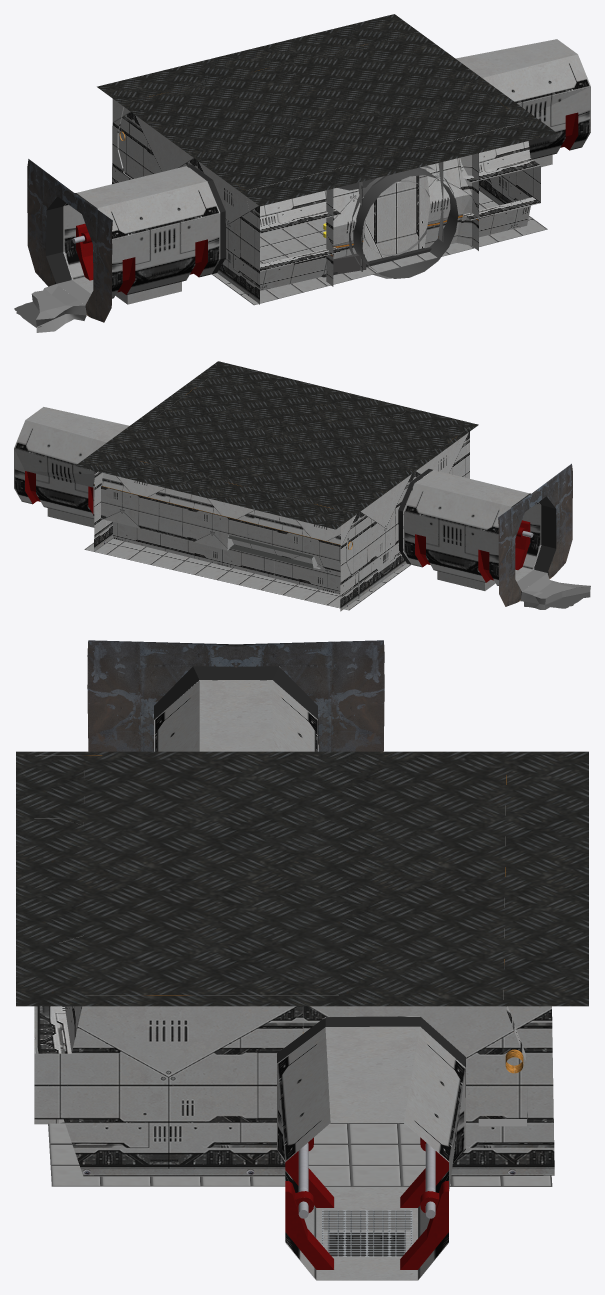
File: Corridor and Airlock Storage.fbx
3 renders of one model, top to bottom at view 1: azimuth 30°, elevation 25°; view 2: azimuth 150°, elevation 25°; view 3: azimuth 270°, elevation 25°, orthographic. The views are drawn at different scales.
Parts seen in each view (by area): view 1: Chamber_Chamber, Corridor8:corridor, polySurface17, Corridor9:corridor, Floor, Airlock; view 2: Chamber_Chamber, Corridor8:corridor, Corridor9:corridor, polySurface17, Floor; view 3: Chamber_Chamber, Corridor9:corridor, polySurface17, Floor, Corridor8:corridor, Corridor9:grate.
Part boxes in pixels (x1,y1,x2,y2): Chamber_Chamber: (97, 14, 557, 304); Corridor8:corridor: (63, 166, 220, 304); polySurface17: (14, 159, 112, 332); Corridor9:corridor: (456, 39, 590, 167); Floor: (212, 191, 547, 305); Airlock: (321, 166, 458, 278); Chamber_Chamber: (75, 361, 478, 611); Corridor8:corridor: (403, 470, 541, 590); Corridor9:corridor: (14, 407, 129, 527); polySurface17: (498, 463, 590, 609); Floor: (84, 512, 410, 610); Chamber_Chamber: (16, 751, 588, 1176); Corridor9:corridor: (277, 1026, 465, 1280); polySurface17: (87, 640, 384, 751); Floor: (48, 1044, 552, 1186); Corridor8:corridor: (154, 680, 317, 751); Corridor9:grate: (322, 1210, 412, 1256).
Size of the model in its own units: 18.52 by 3.75 by 8.99.
